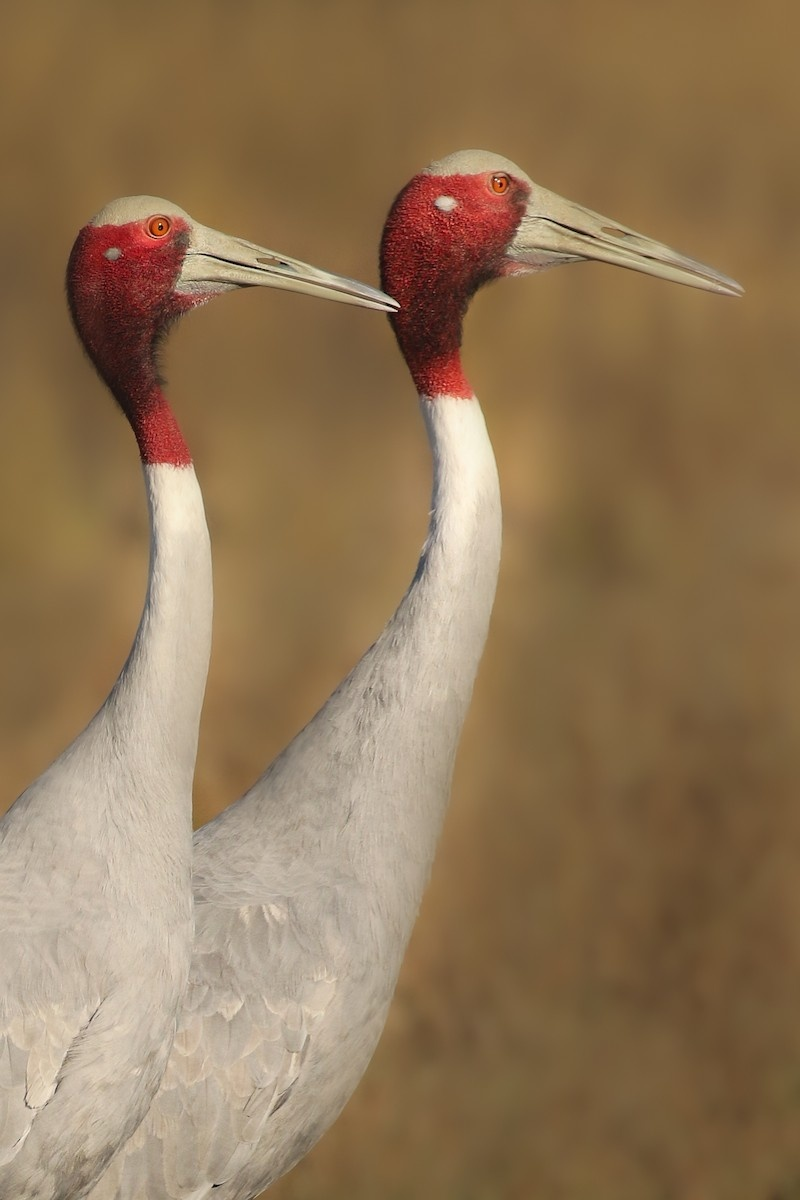crane: (196, 139, 750, 1154), (1, 207, 404, 1132)
